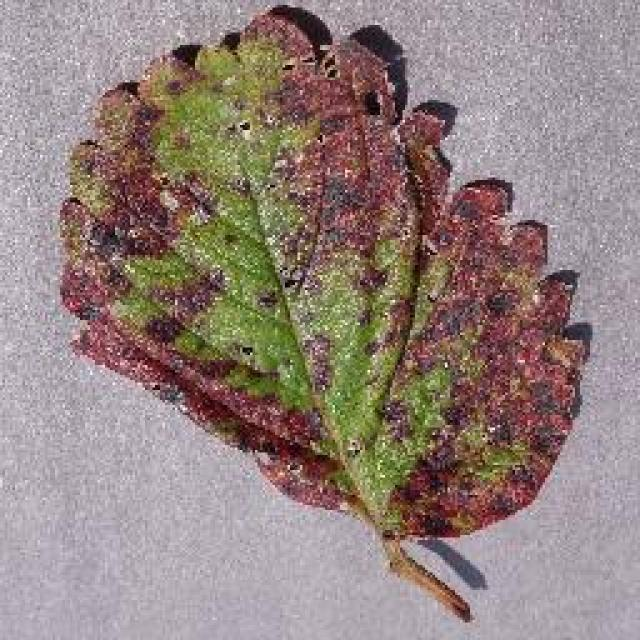Strawberry___Leaf_scorch: (40, 0, 605, 635)
